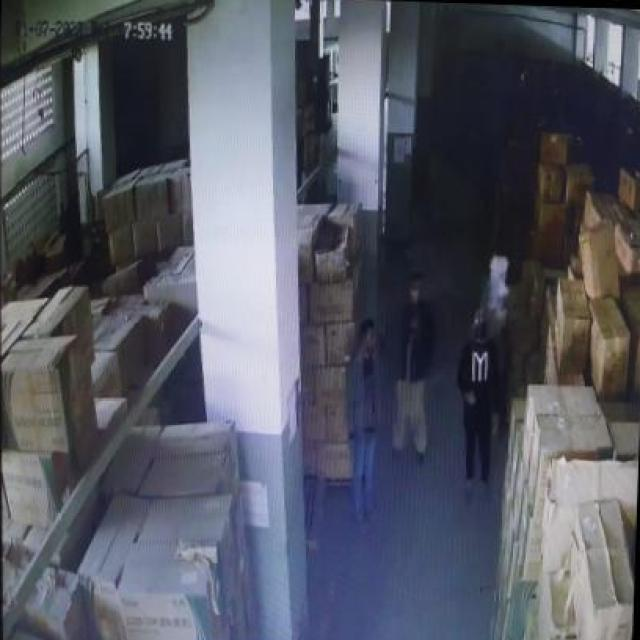fire: (484, 251, 509, 340)
